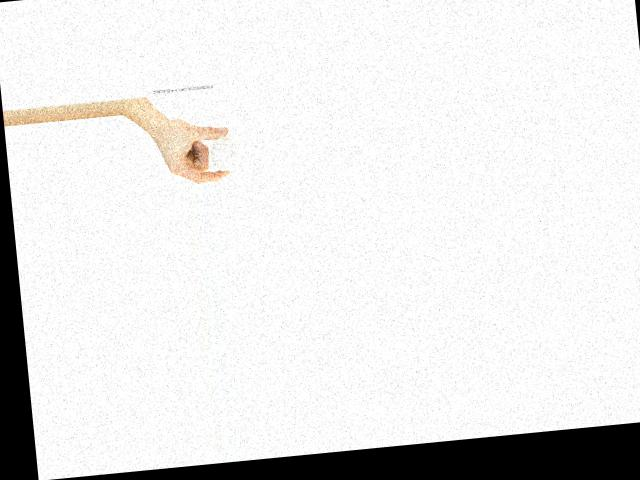egg: (208, 135, 237, 172)
